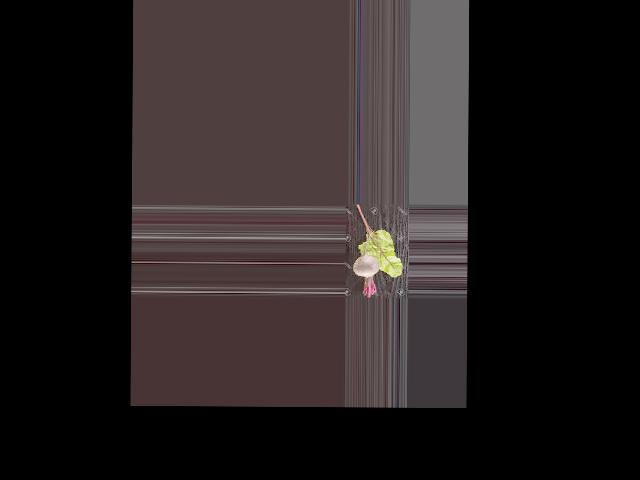beet: (352, 230, 379, 298)
